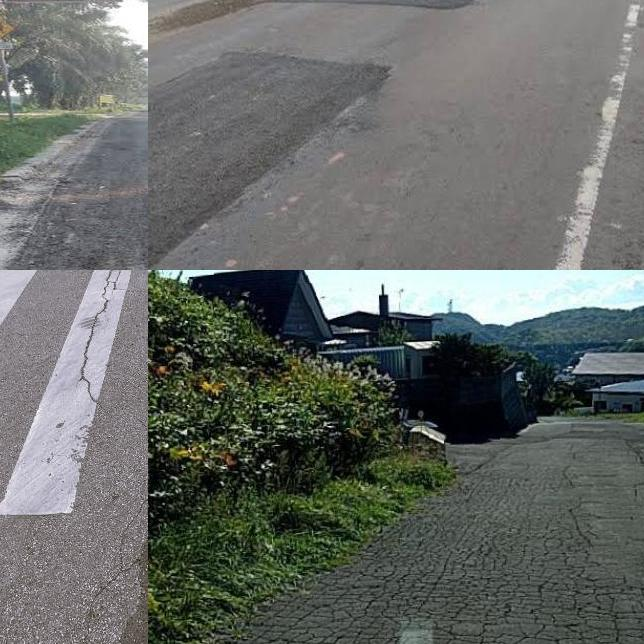Retak Buaya: (210, 483, 644, 644)
Sambungan: (148, 48, 398, 270), (10, 118, 148, 270)
